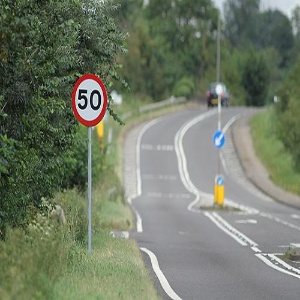50 speed: (72, 74, 107, 127)
